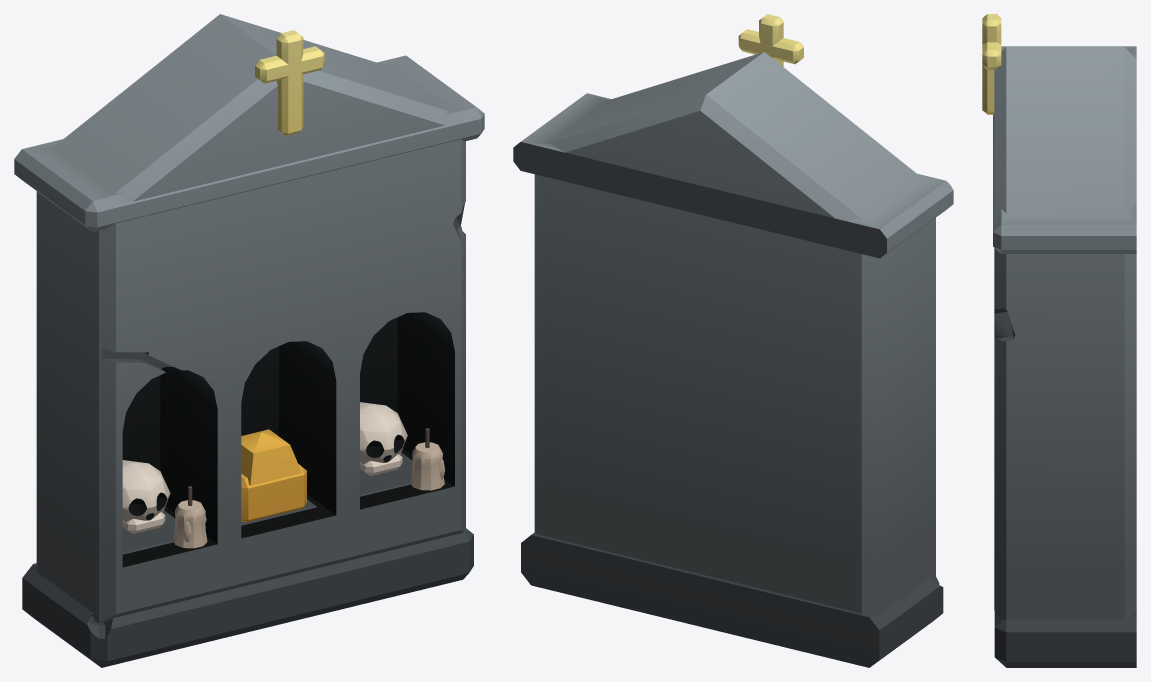
File: reliquary.glb
3 renders of one model, left to right at view 1: azimuth 30°, elevation 25°; view 2: azimuth 150°, elevation 25°; view 3: azimuth 270°, elevation 25°, orthographic. The views are drawn at different scales.
Parts seen in each view (by area): view 1: reliquary; view 2: reliquary; view 3: reliquary.
Part boxes in pixels (<box>): reliquary: <box>14,14,484,667</box>; reliquary: <box>513,14,953,667</box>; reliquary: <box>982,14,1136,667</box>.
Bounding box in the file's own units: 1.85 × 2.64 × 0.65.
Materials: 1 (1 with a texture image).
